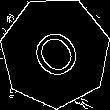O_SE: (23, 19, 87, 86)
